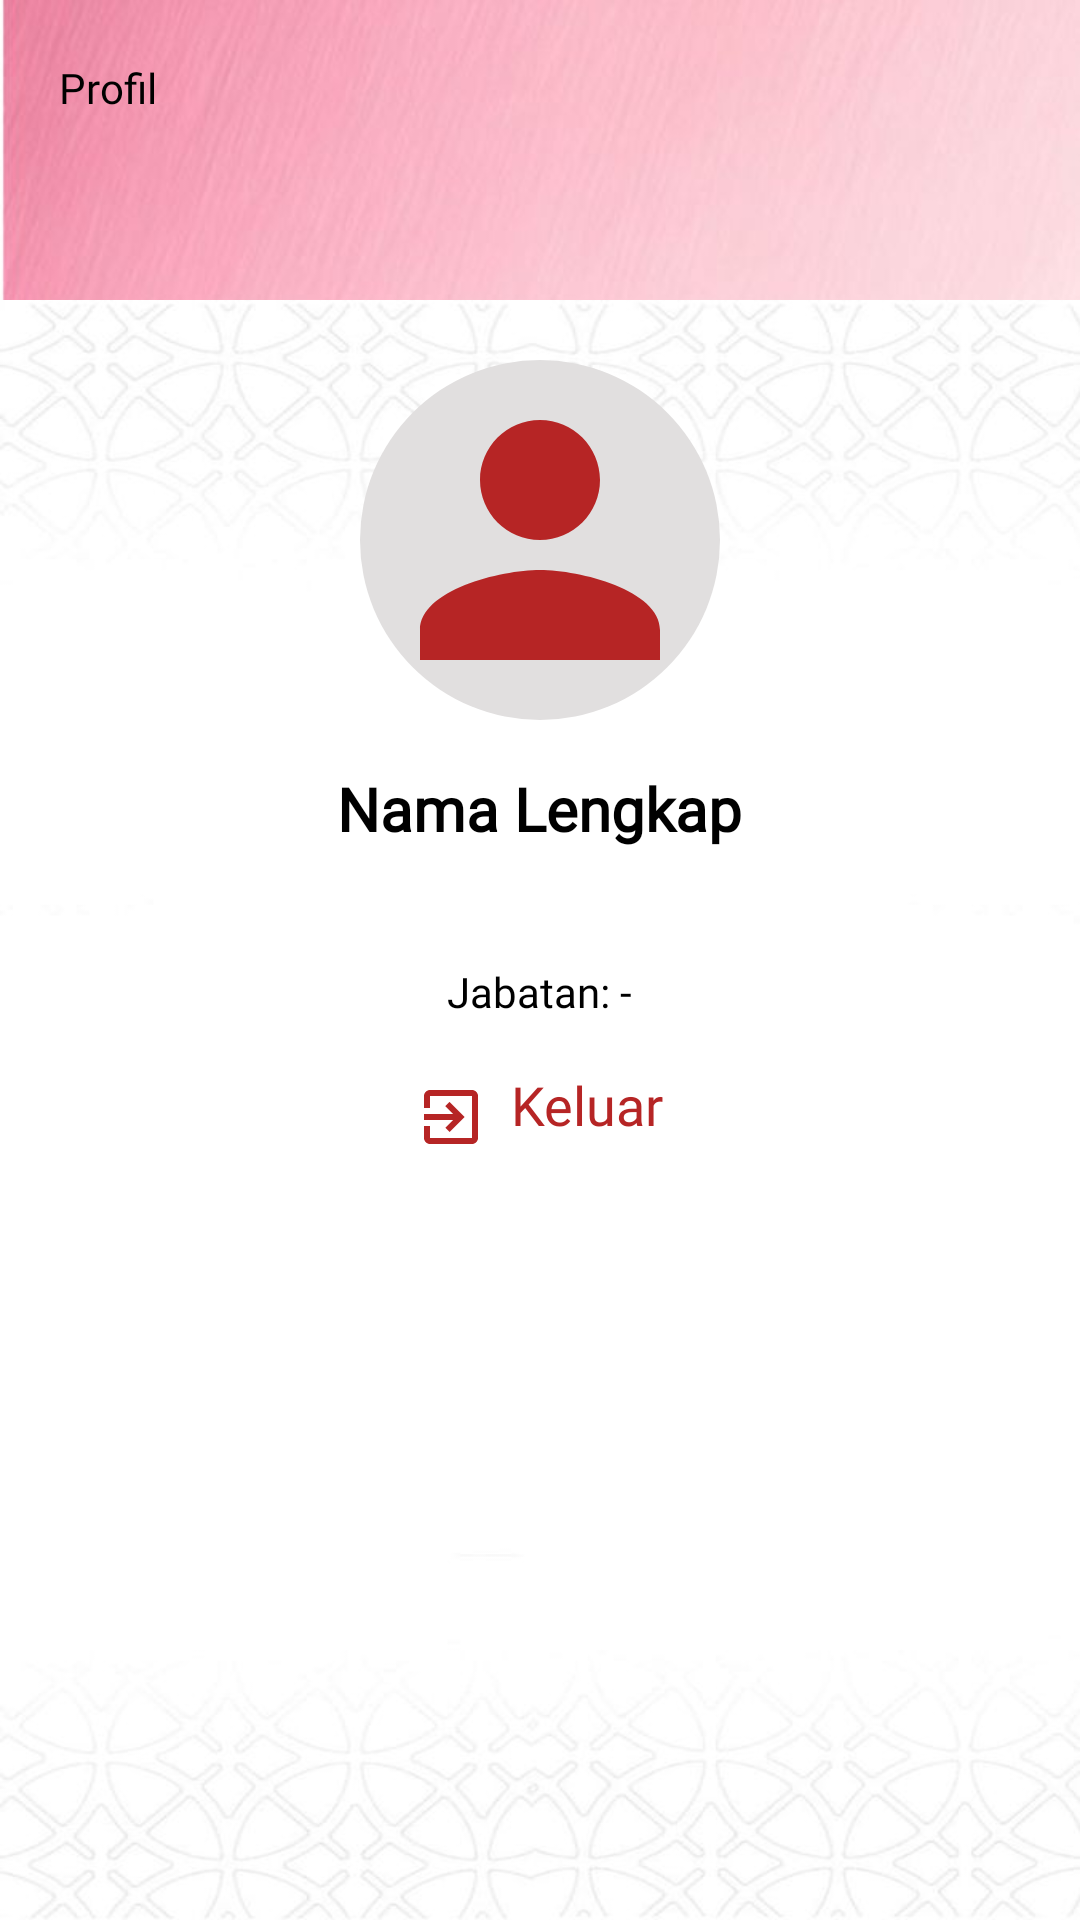

Screen size 1080×1920. Icon name, then its box in pixels as (x1, y1, x2, y2):
person: (360, 360, 720, 720)
